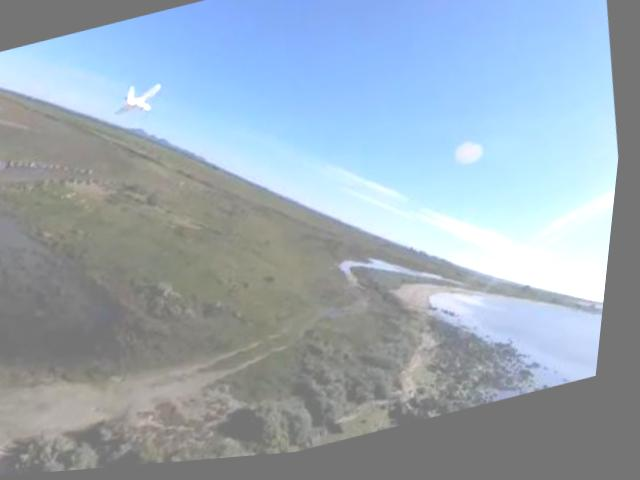uav: (106, 81, 172, 123)
